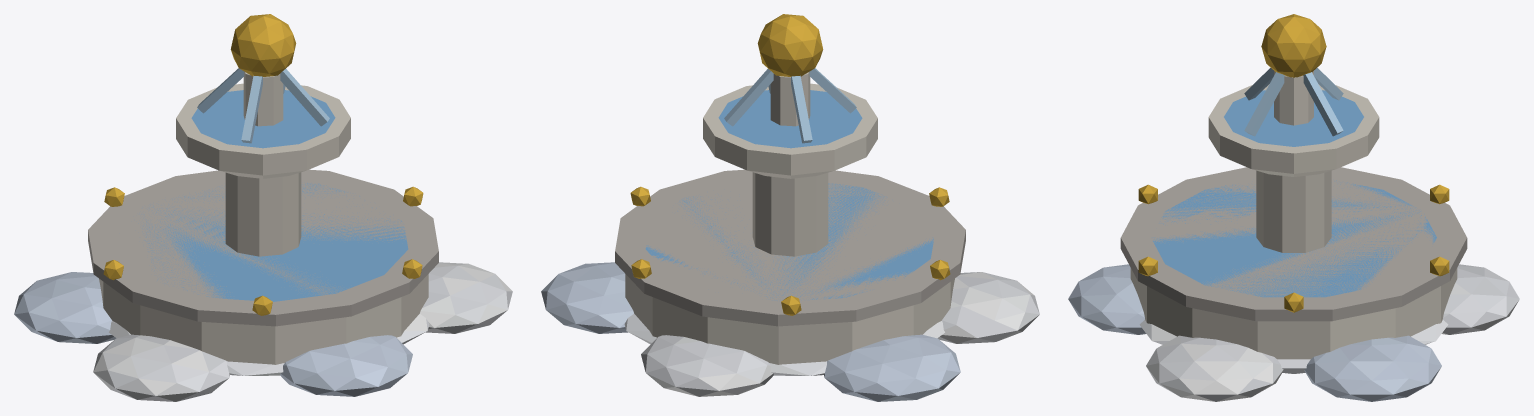
The model's file is Decor_CloudTemple_CloudFountain.fbx.
3 renders of one model, left to right at view 1: azimuth 30°, elevation 25°; view 2: azimuth 150°, elevation 25°; view 3: azimuth 270°, elevation 25°, orthographic.
Parts seen in each view (by area): view 1: CloudFountain_Body; view 2: CloudFountain_Body; view 3: CloudFountain_Body.
Part boxes in pixels (<box>): CloudFountain_Body: <box>14,14,512,401</box>; CloudFountain_Body: <box>541,14,1039,401</box>; CloudFountain_Body: <box>1068,14,1519,401</box>.
Size of the model in its own units: 18 by 13.3 by 18.
